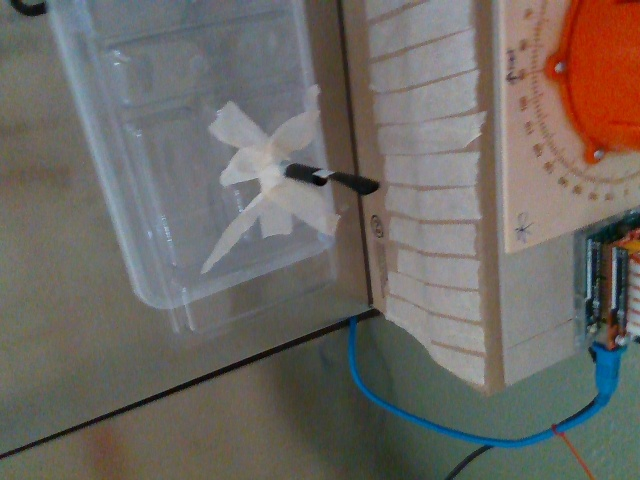test_strip: (312, 167, 380, 199)
